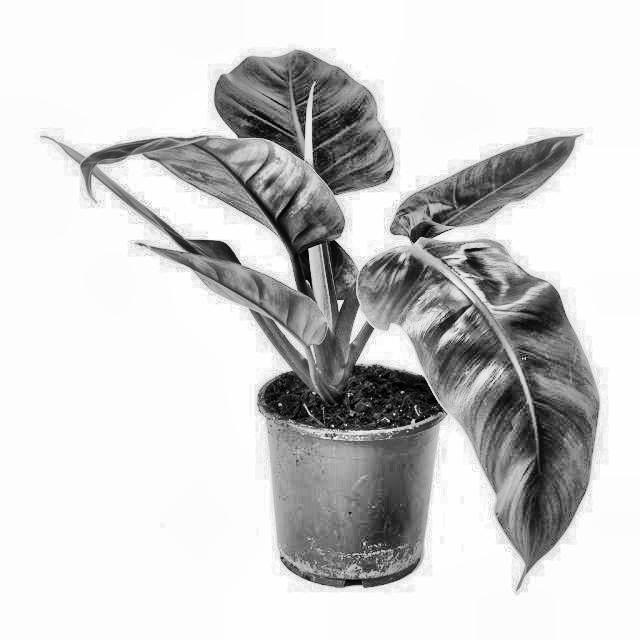plants: (111, 71, 573, 594)
